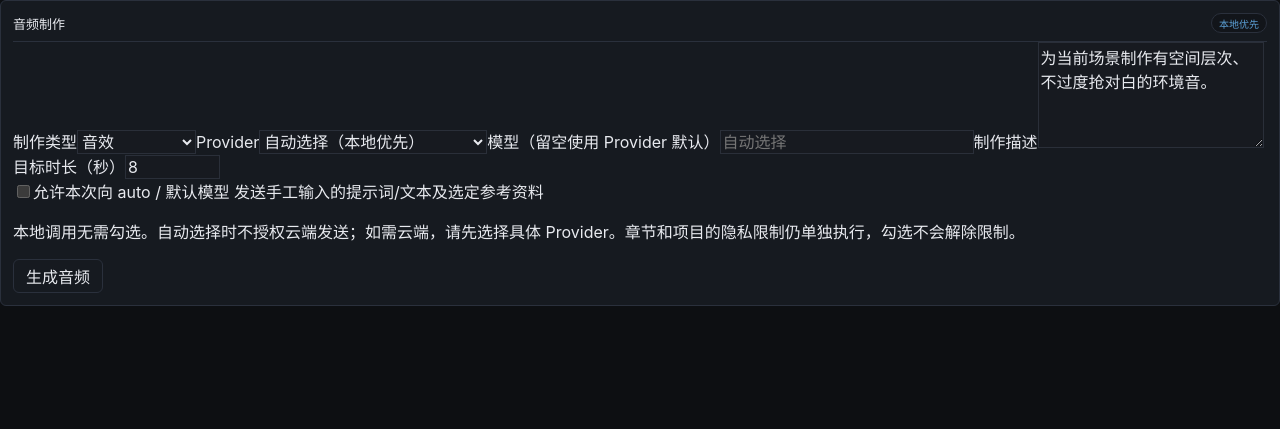
Test: exposes non-TTS audio capabilities and submits with project scope
This screenshot has width=1280, height=429.
Click the button "生成音频" at (58, 276), box [13,259,103,293]
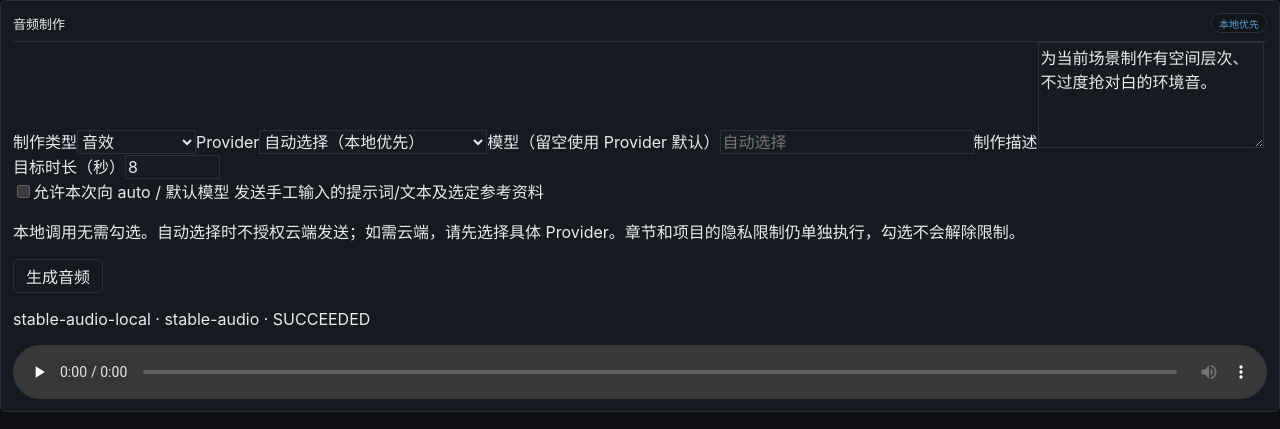
Expected: the element named "音频制作结果" is shown, [13,345,1267,399]
